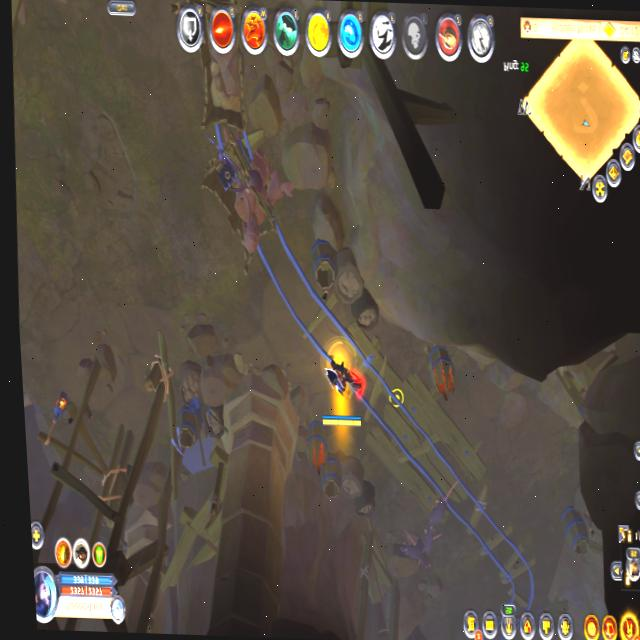ore: (421, 474, 460, 531), (395, 526, 423, 561), (419, 519, 440, 555)
red: (312, 338, 371, 432)
